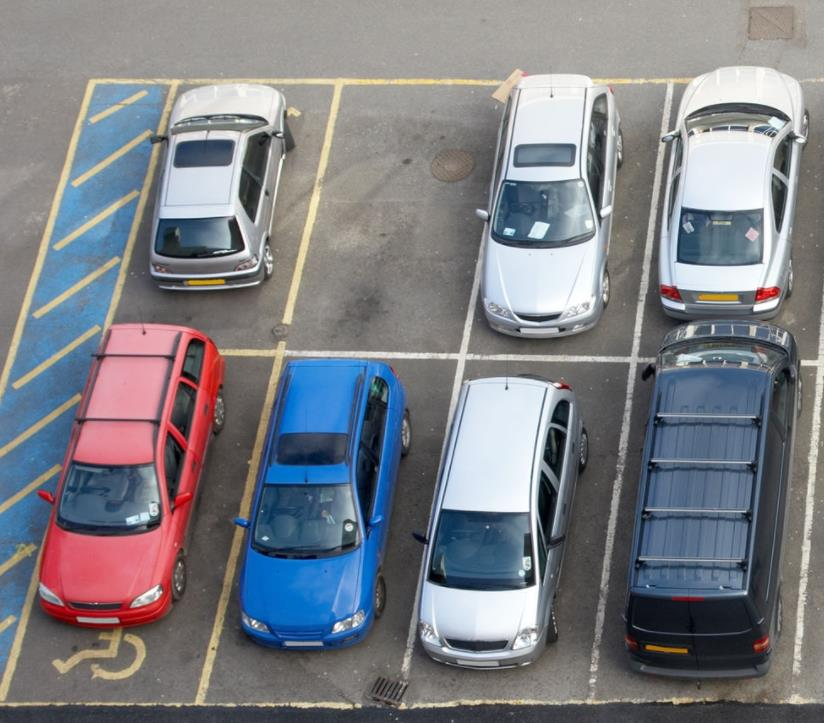car: (623, 316, 804, 690), (28, 318, 228, 630), (413, 370, 592, 677), (232, 356, 415, 653), (467, 69, 631, 337), (661, 63, 808, 323), (147, 77, 298, 296)
